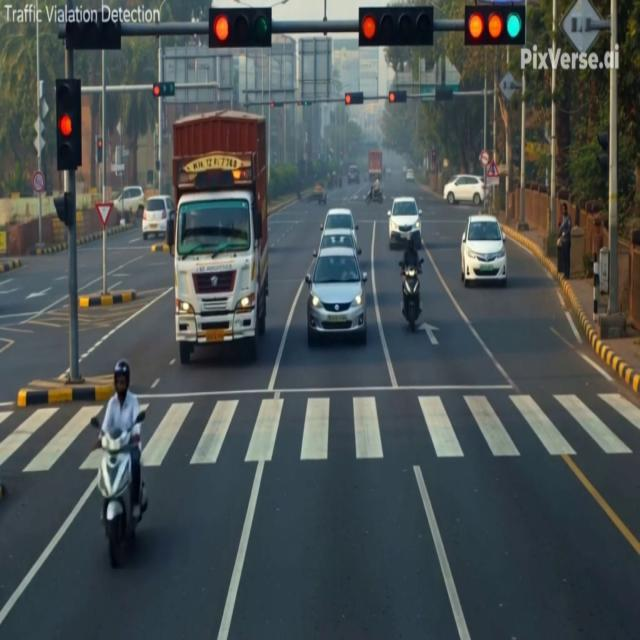car: (306, 248, 367, 346), (461, 214, 506, 287), (388, 197, 421, 249), (142, 196, 173, 239), (313, 230, 361, 257), (443, 175, 486, 205), (321, 208, 358, 242), (112, 186, 145, 223), (310, 182, 326, 204), (347, 166, 359, 184), (406, 169, 414, 182)
scooty: (97, 430, 147, 567), (399, 262, 421, 332), (365, 190, 383, 204)
traffic signal: (359, 6, 433, 47), (465, 5, 525, 46), (209, 8, 272, 47), (56, 79, 81, 171), (65, 13, 121, 50), (54, 192, 74, 227), (597, 132, 609, 173), (153, 82, 175, 98), (435, 86, 453, 101), (345, 92, 363, 105), (389, 91, 407, 103), (96, 137, 102, 163), (270, 103, 283, 108), (298, 101, 310, 106), (269, 102, 275, 109)
truck: (167, 111, 268, 364), (368, 150, 382, 182)
